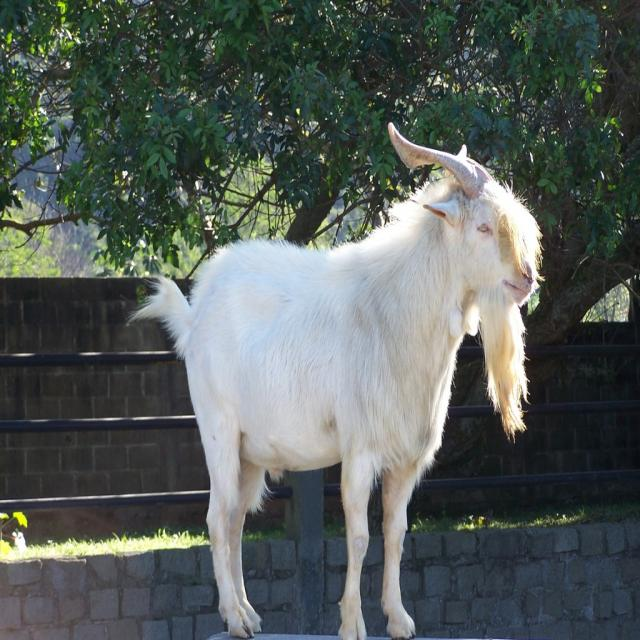Goat: (120, 120, 543, 640)
